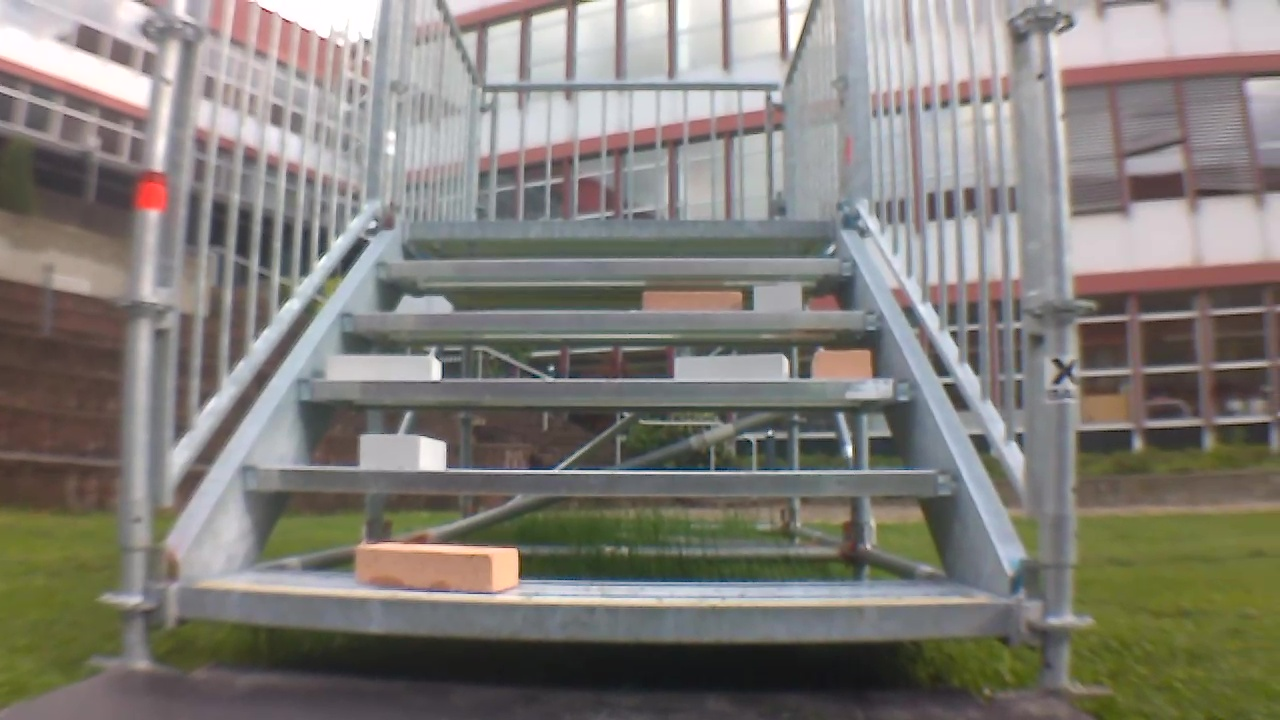brick: (358, 543, 518, 593), (362, 434, 446, 471), (674, 352, 788, 378), (328, 354, 439, 380), (643, 291, 741, 311), (814, 351, 870, 377), (753, 284, 800, 310)
edge: (175, 583, 998, 641), (245, 464, 954, 497), (292, 379, 916, 404), (340, 310, 879, 332), (399, 218, 833, 238), (376, 258, 853, 275)
stairs: (106, 3, 1091, 696)
steps: (163, 209, 1012, 647)
